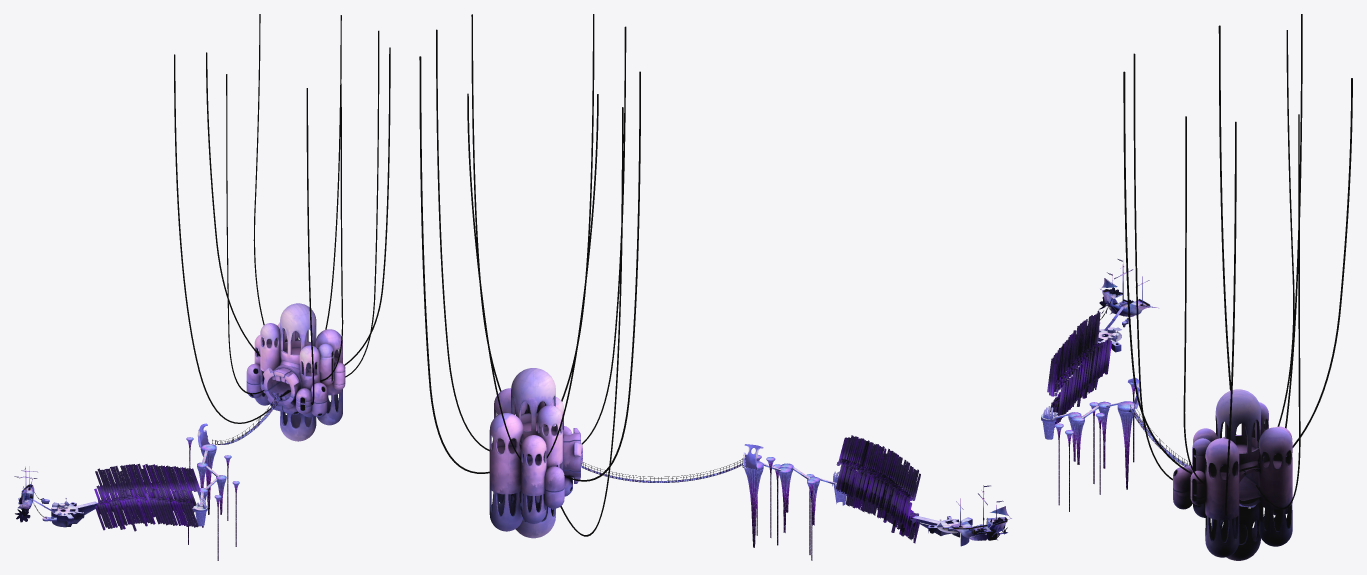
The model's file is scene2.mobile.glb.
3 views of the same model, side by side, from view 1: azimuth 30°, elevation 25°; view 2: azimuth 150°, elevation 25°; view 3: azimuth 270°, elevation 25° (orthographic). The views are drawn at different scales.
Parts seen in each view (by area): view 1: Sphere.014, balsalt, NurbsPath.043, Circle_009, NurbsPath.041, NurbsPath.037, NurbsPath.042, NurbsPath.039, NurbsPath.036, NurbsPath.035, NurbsPath.038, NurbsPath.040; view 2: Sphere.014, balsalt, NurbsPath.035, NurbsPath.036, NurbsPath.043, NurbsPath.042, NurbsPath.039, NurbsPath.040, NurbsPath.041, NurbsPath.038; view 3: Sphere.014, balsalt, NurbsPath.038, NurbsPath.041, NurbsPath.042, NurbsPath.035, NurbsPath.040, NurbsPath.036, NurbsPath.039, NurbsPath.043, NurbsPath.037, Cylinder.033 (+1 smaller).
Boxes of the visible parts, x1,y1,x2,y2 form: Sphere.014: (246, 303, 345, 441); balsalt: (94, 463, 200, 531); NurbsPath.043: (174, 54, 271, 423); Circle_009: (51, 501, 97, 527); NurbsPath.041: (306, 88, 314, 404); NurbsPath.037: (344, 47, 390, 365); NurbsPath.042: (345, 30, 379, 377); NurbsPath.039: (206, 52, 260, 356); NurbsPath.036: (226, 74, 264, 394); NurbsPath.035: (325, 15, 341, 329); NurbsPath.038: (320, 83, 343, 381); NurbsPath.040: (253, 14, 264, 325); Sphere.014: (489, 368, 582, 538); balsalt: (835, 435, 920, 543); NurbsPath.035: (419, 56, 489, 473); NurbsPath.036: (564, 71, 640, 481); NurbsPath.043: (560, 107, 623, 536); NurbsPath.042: (436, 29, 489, 451); NurbsPath.039: (546, 94, 598, 458); NurbsPath.040: (467, 93, 521, 460); NurbsPath.041: (581, 26, 626, 444); NurbsPath.038: (561, 14, 594, 401); Sphere.014: (1173, 389, 1292, 560); balsalt: (1047, 310, 1111, 427); NurbsPath.038: (1123, 71, 1192, 474); NurbsPath.041: (1133, 53, 1172, 480); NurbsPath.042: (1225, 121, 1236, 515); NurbsPath.035: (1256, 114, 1300, 509); NurbsPath.040: (1286, 78, 1352, 454); NurbsPath.036: (1218, 25, 1236, 434); NurbsPath.039: (1277, 30, 1294, 426); NurbsPath.043: (1285, 14, 1302, 428); NurbsPath.037: (1183, 116, 1205, 484); Cylinder.033: (1117, 401, 1135, 489).
Size of the model in its own units: 262 by 255 by 137.
40 materials, 39 textured.
